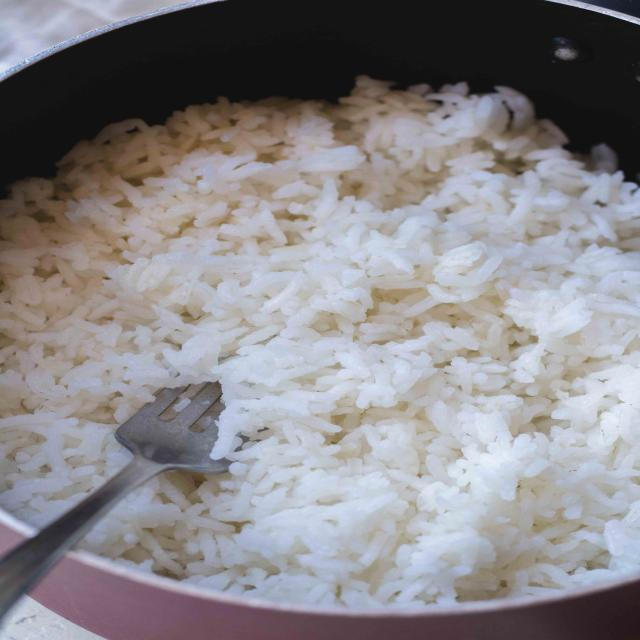Wet Waste: (0, 77, 640, 614)
